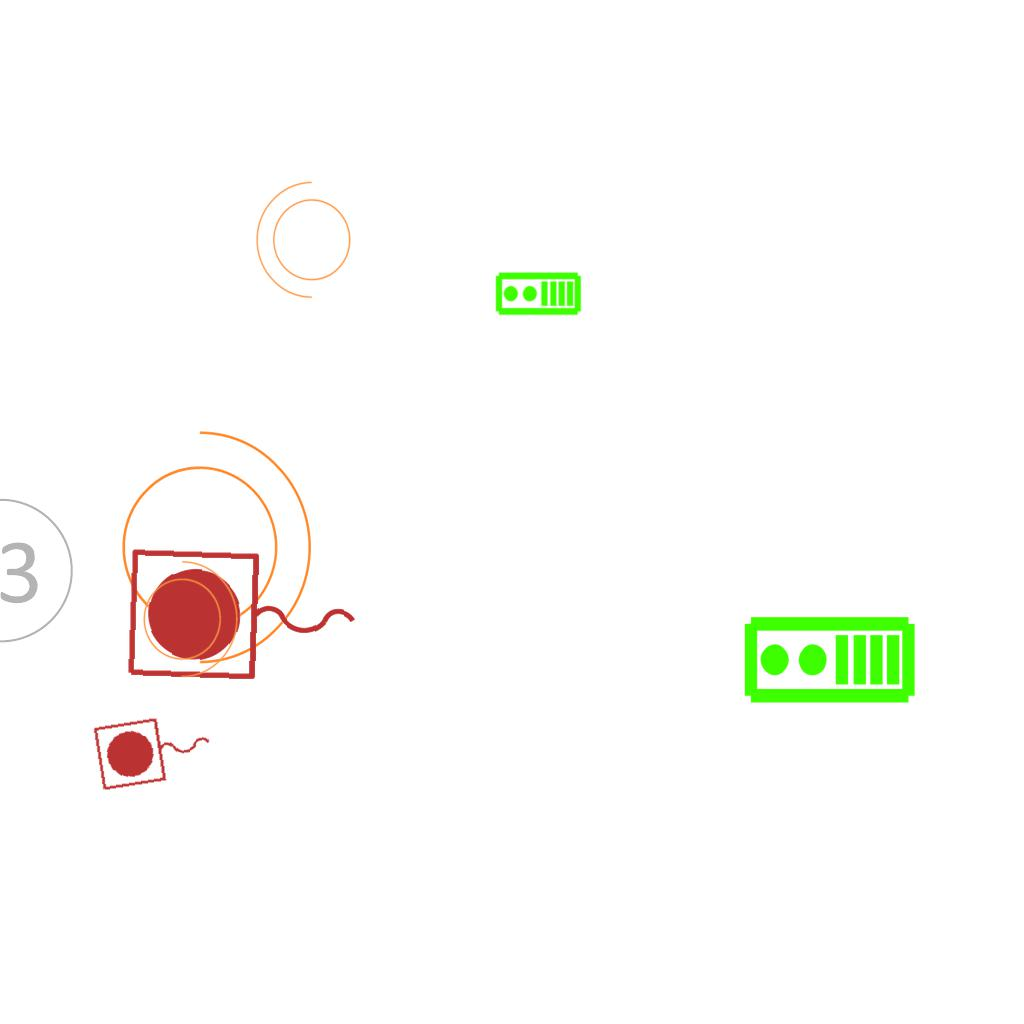Gegensprechanlage_mit_Video: (741, 614, 917, 709), (494, 271, 582, 318)
Scheinwerfer_fuer_Alarmbeleuchtung: (97, 409, 322, 673), (251, 177, 363, 309), (131, 550, 243, 682)
Zugtaster: (119, 541, 369, 695), (89, 705, 221, 797)
